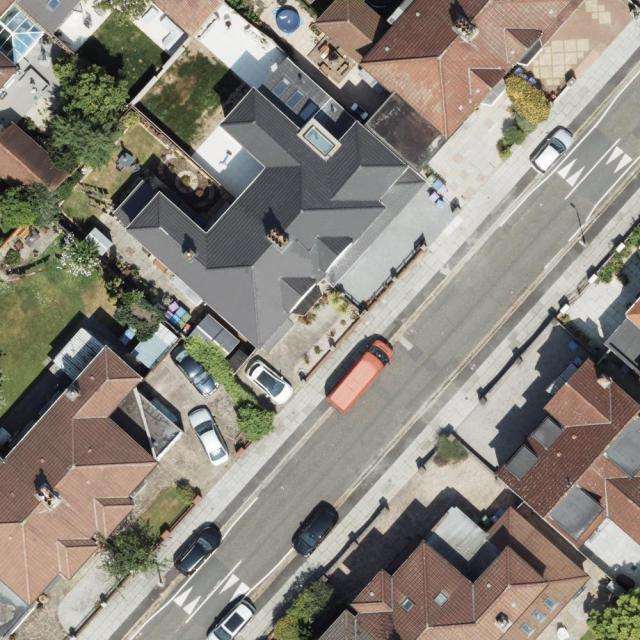roof: (111, 0, 585, 356), (0, 324, 184, 640), (318, 502, 591, 640), (493, 356, 640, 550), (0, 0, 81, 93), (1, 120, 72, 211), (604, 296, 640, 379), (148, 0, 225, 37)
skylight: (0, 3, 47, 66), (304, 126, 335, 156), (285, 86, 308, 109), (270, 76, 292, 97), (300, 100, 321, 120), (44, 0, 62, 13), (434, 591, 448, 607), (531, 609, 545, 622), (543, 597, 557, 610), (402, 599, 415, 610), (522, 623, 533, 635)
